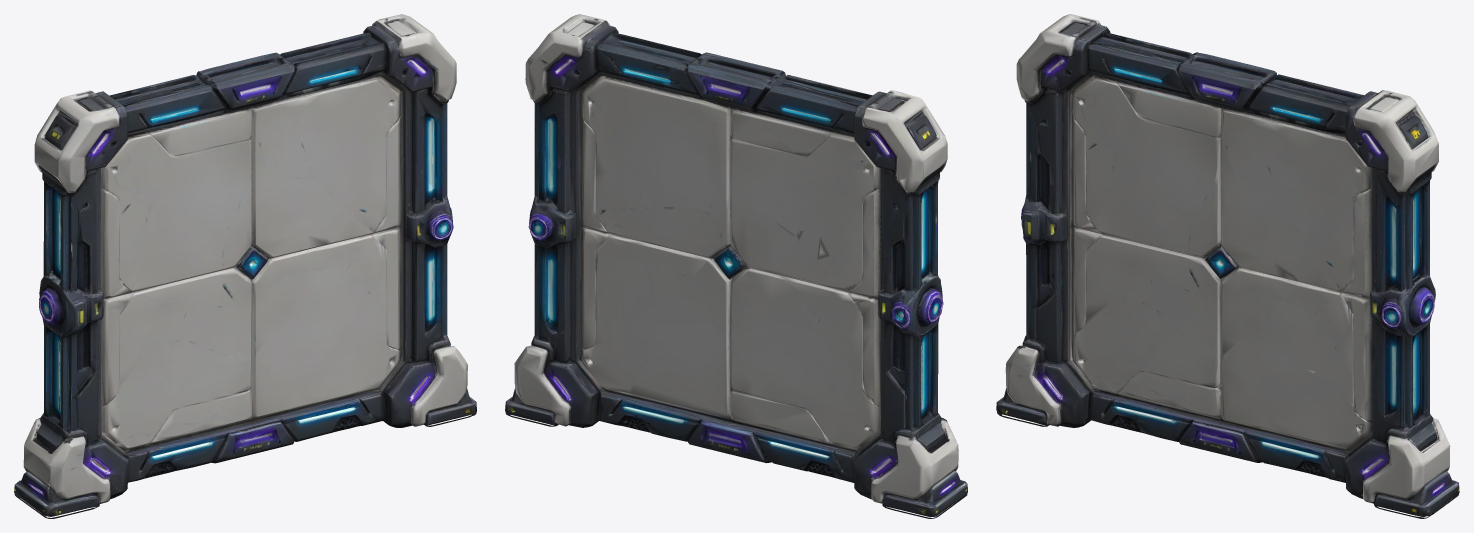
The model's file is model-16-phase-wall.glb.
3 views of the same model, side by side, from view 1: azimuth 30°, elevation 25°; view 2: azimuth 150°, elevation 25°; view 3: azimuth 330°, elevation 25° (orthographic).
Parts seen in each view (by area): view 1: node_0; view 2: node_0; view 3: node_0.
Part boxes in pixels (<box>): node_0: <box>14,14,476,518</box>; node_0: <box>505,14,967,518</box>; node_0: <box>996,14,1459,518</box>.
Bounding box in the file's own units: 0.9082 × 0.7869 × 0.1312.
Materials: 1 (1 with a texture image).
